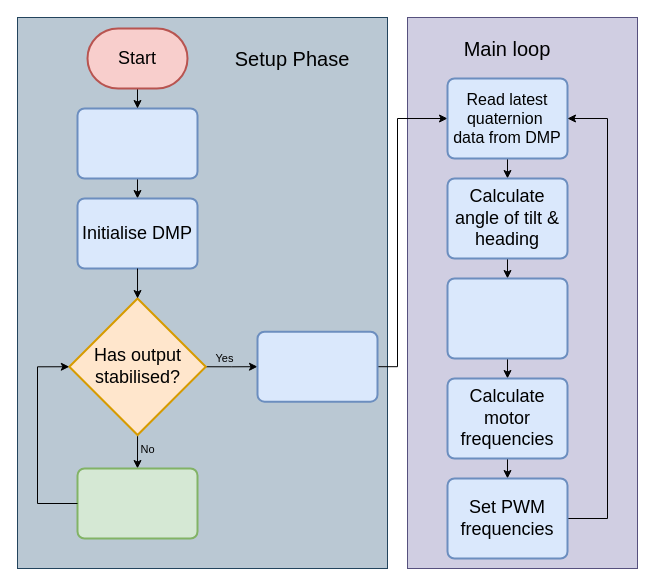
Image size: 655x586. Some labels were removed from this diagram. Each missing label, with the centre of its shape:
"Delay 10ms" belongs at point 137,503.
"Initialise PWM channels" belongs at point 317,366.
"PID calculations" belongs at point 507,318.
"Setup sensor" belongs at point 137,143.
